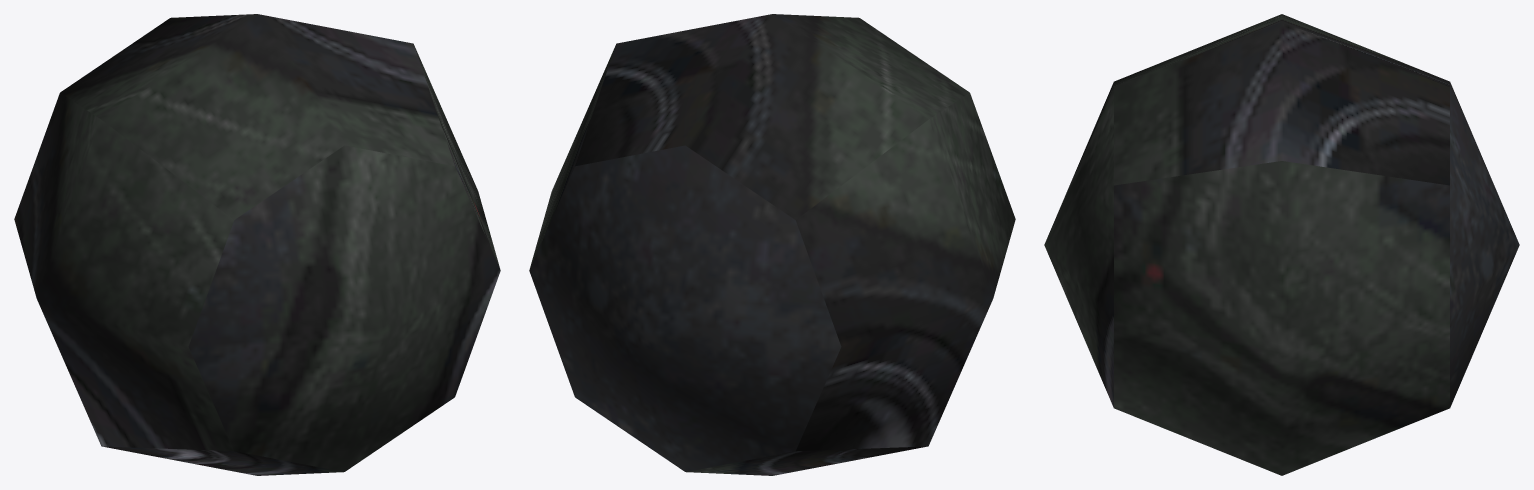
Rendered from t6_wpn_motion_sensor_world_LOD3.obj.
3 views of the same model, side by side, from view 1: azimuth 30°, elevation 25°; view 2: azimuth 150°, elevation 25°; view 3: azimuth 270°, elevation 25° (orthographic). The views are drawn at different scales.
Visible parts, largest first — view 1: mtl_t6_wpn_motion_sensor; view 2: mtl_t6_wpn_motion_sensor; view 3: mtl_t6_wpn_motion_sensor.
Part boxes in pixels (x1=…): mtl_t6_wpn_motion_sensor: x1=14, y1=14, x2=500, y2=475; mtl_t6_wpn_motion_sensor: x1=529, y1=14, x2=1015, y2=475; mtl_t6_wpn_motion_sensor: x1=1044, y1=14, x2=1519, y2=475.
Size of the model in its own units: 27.97 by 27.97 by 27.05.
